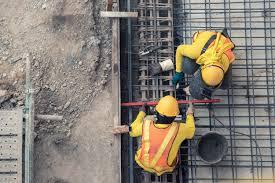safe person: (171, 26, 253, 100), (129, 94, 198, 181)
